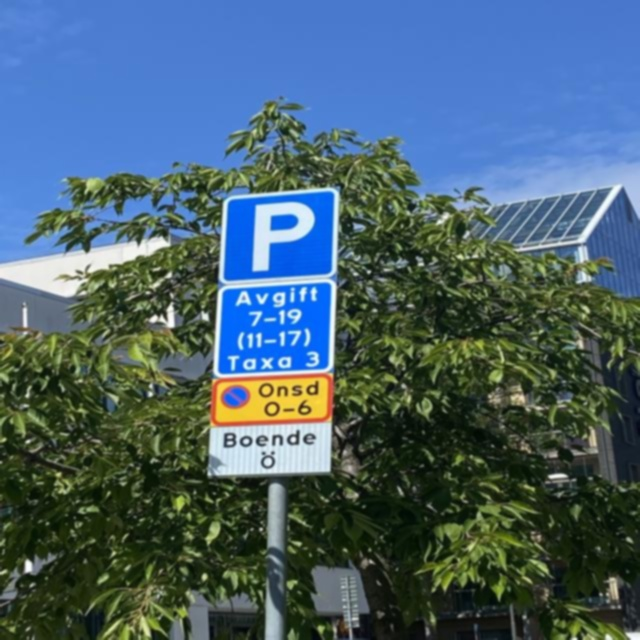P-skylt: (223, 194, 335, 282)
